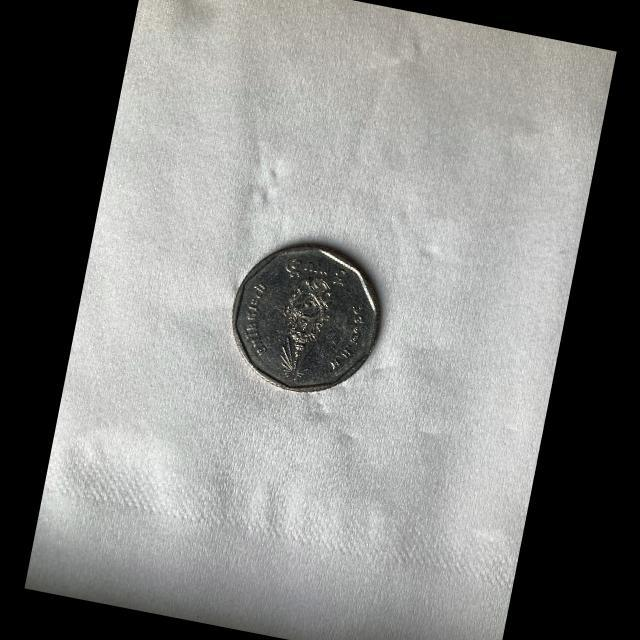5 Bath: (229, 241, 384, 396)
